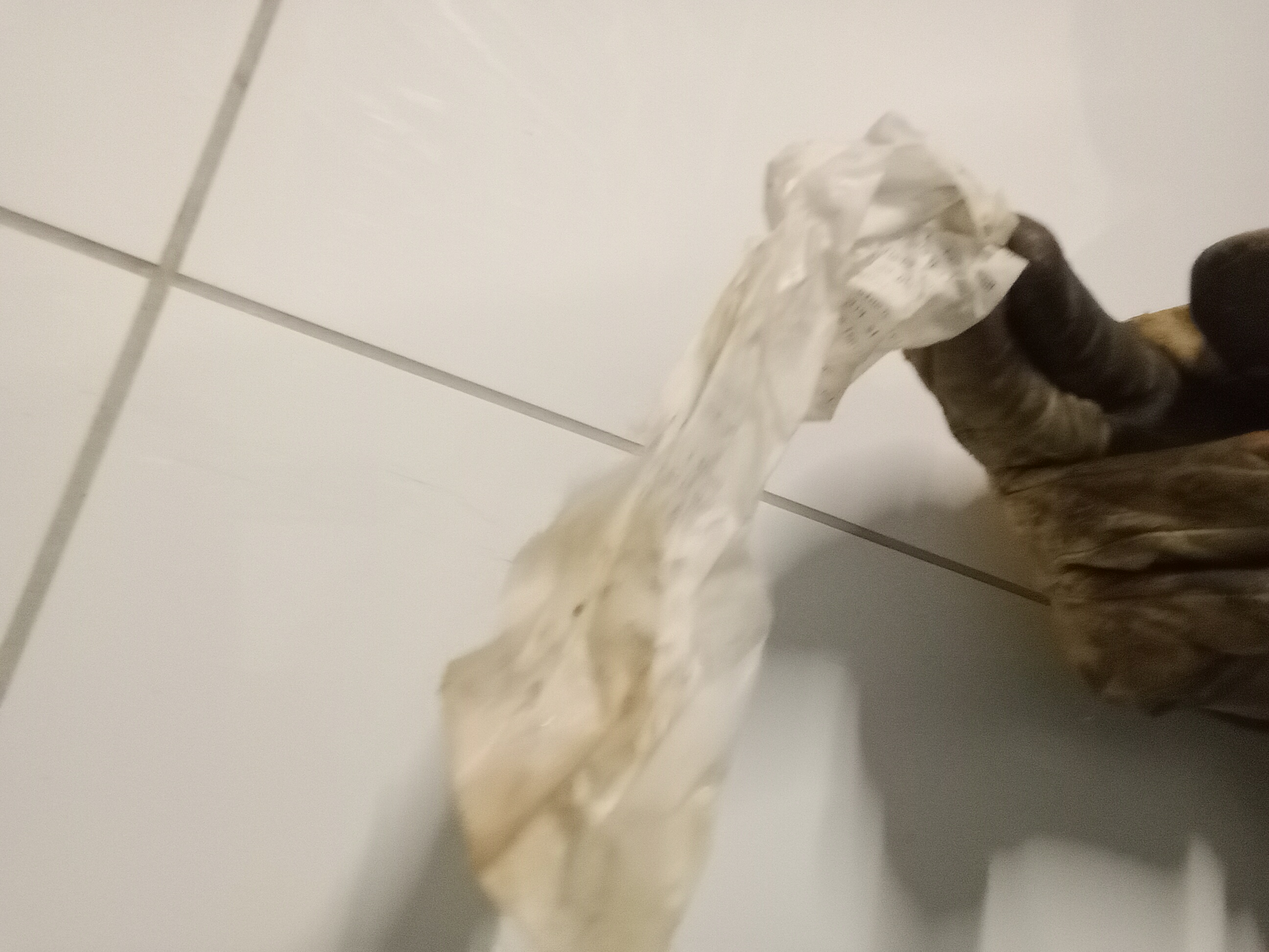Ordinario: (438, 108, 1031, 949)
